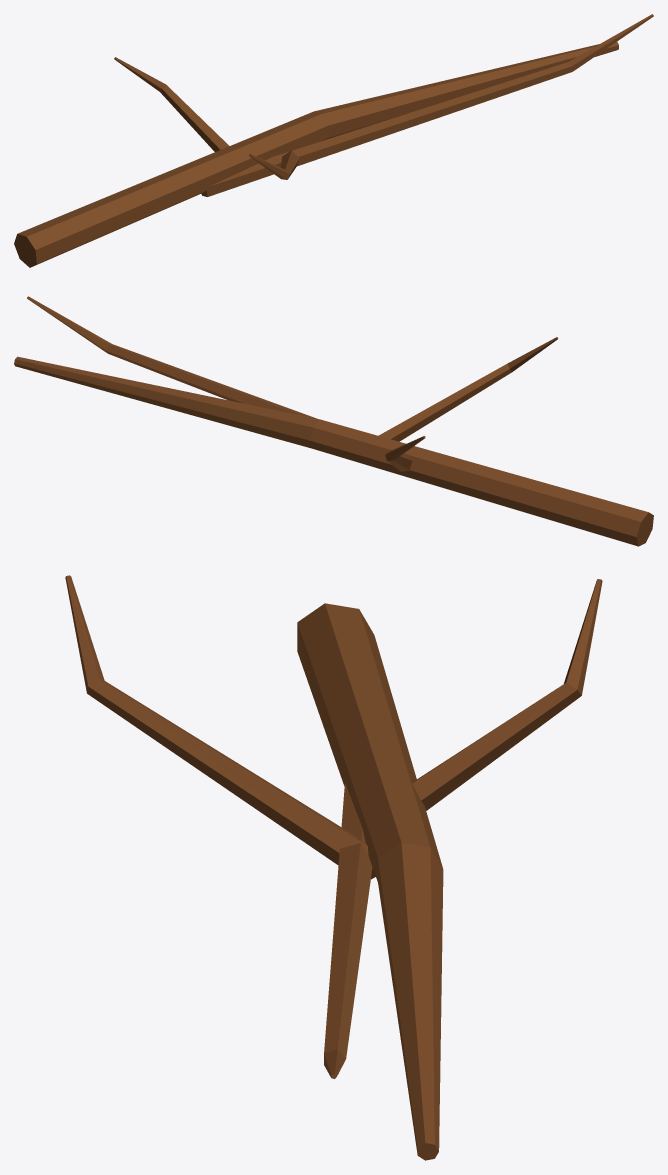
The model's file is fallen_tree.fbx.
3 renders of one model, top to bottom at view 1: azimuth 30°, elevation 25°; view 2: azimuth 150°, elevation 25°; view 3: azimuth 270°, elevation 25°, orthographic. The views are drawn at different scales.
Visible parts, largest first — view 1: fallen_tree; view 2: fallen_tree; view 3: fallen_tree.
Part boxes in pixels (left/top/right/bottom): fallen_tree: left=14, top=14, right=653, bottom=267; fallen_tree: left=14, top=296, right=653, bottom=546; fallen_tree: left=65, top=575, right=602, bottom=1160.
Bounding box in the file's own units: 8 × 1.5 × 3.
